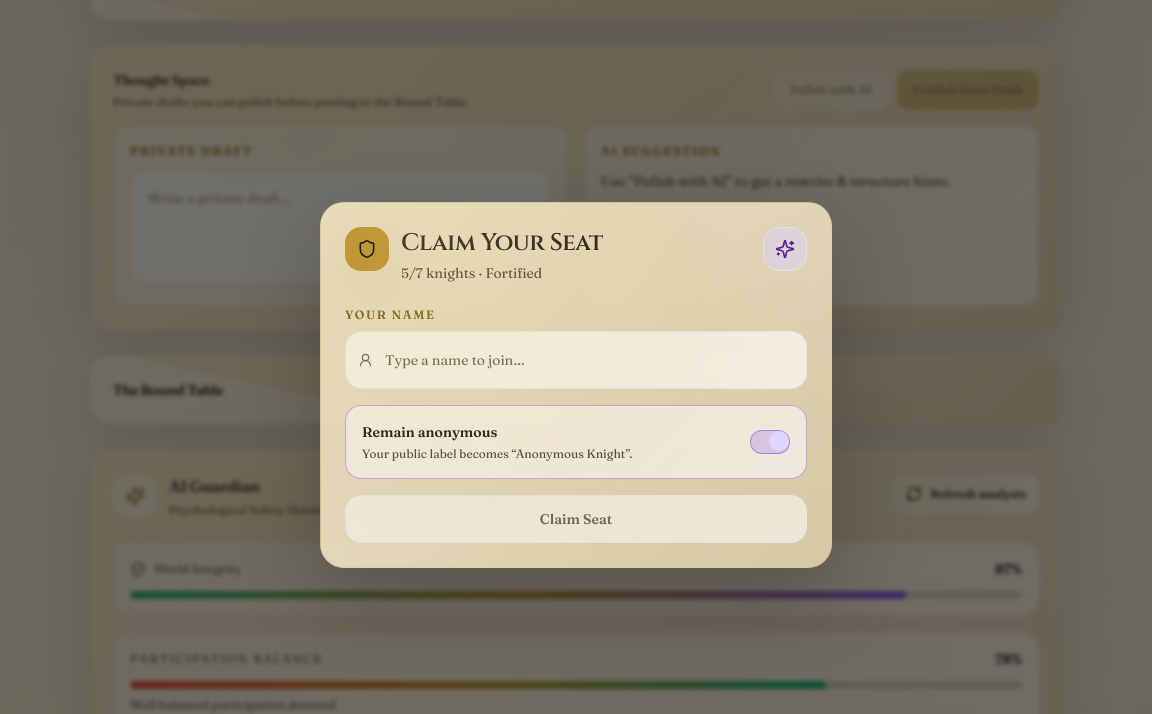
Test: room shows guidance when empty and confirms before publishing from draft
(page scrolled)
Expected: the heading "Claim Your Seat" is shown, x1=401 y1=227 x2=603 y2=259
Type "Alice" into the field labelled "YOUR NAME" at coordinates (590, 360), box x1=385 y1=340 x2=794 y2=380
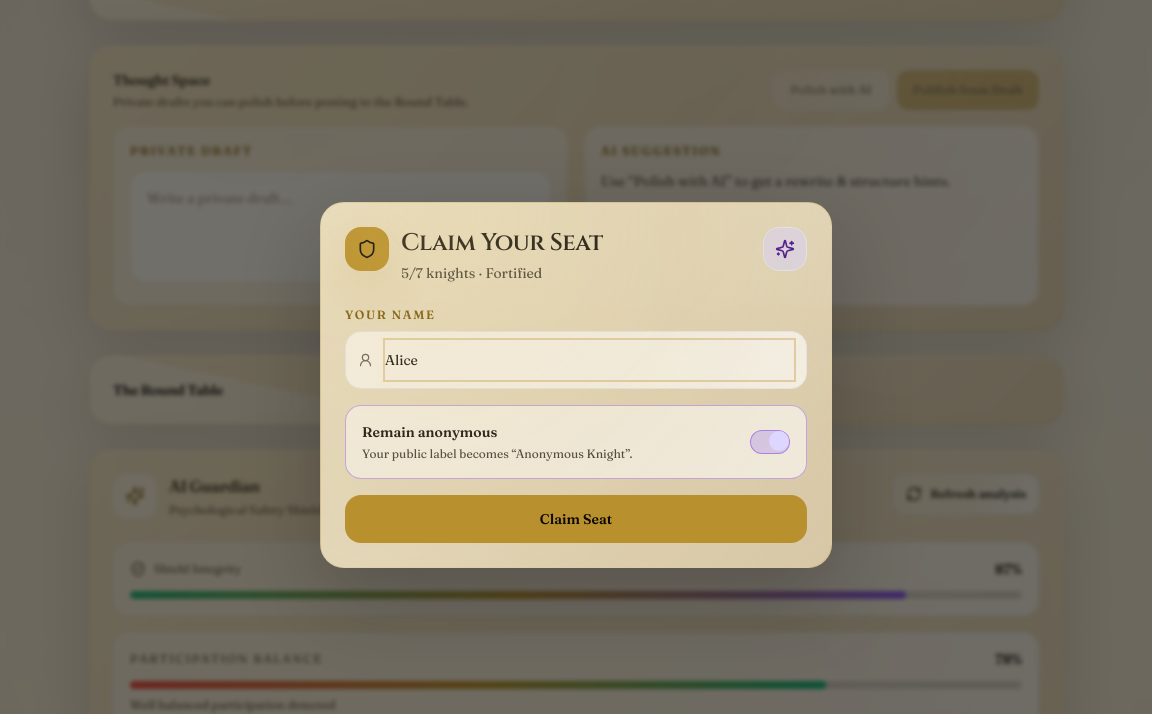
Click the button "Claim Seat" at coordinates (576, 519), box x1=345 y1=495 x2=807 y2=543
(page scrolled)
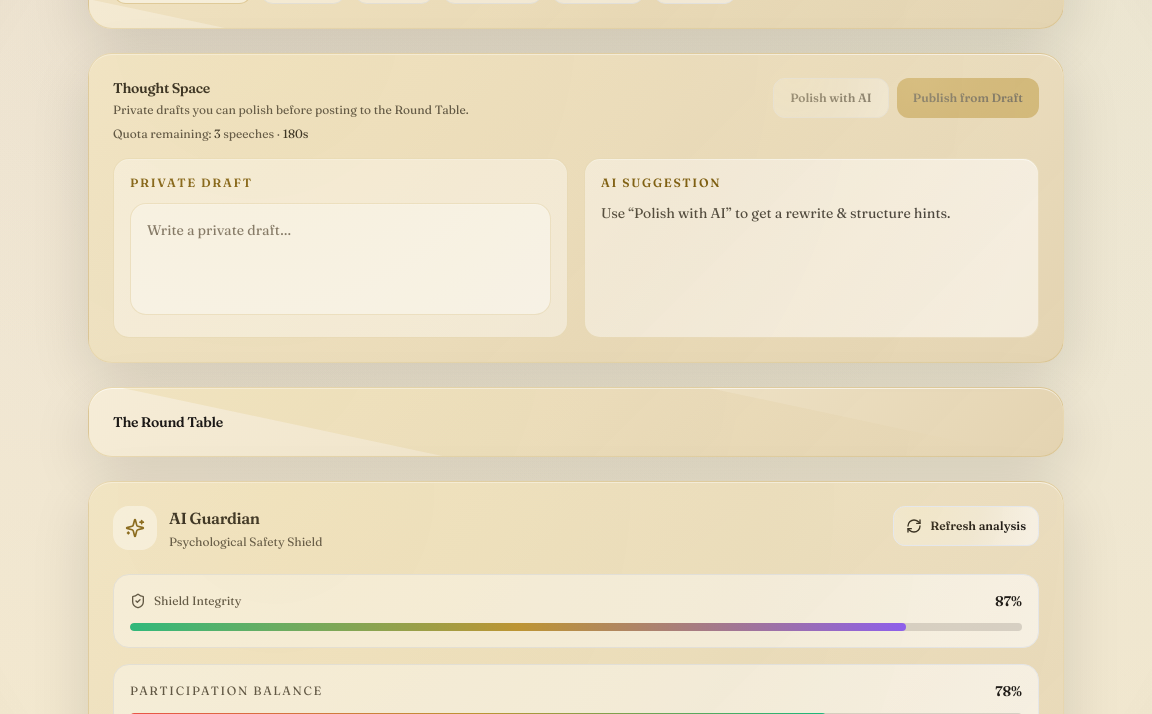
Type "Hello from draft" into the text box labelled "Write a private draft…" at coordinates (340, 259), box x1=130 y1=203 x2=551 y2=315
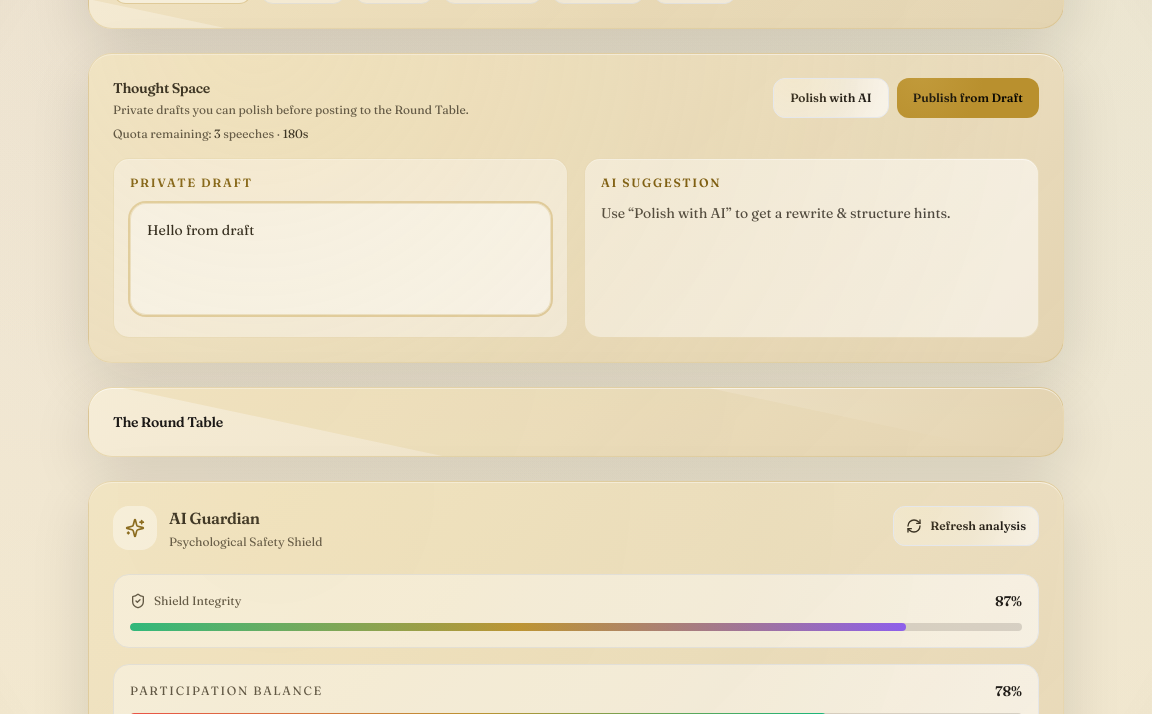
Click the button "Publish from Draft" at coordinates (968, 98), box x1=897 y1=78 x2=1039 y2=118
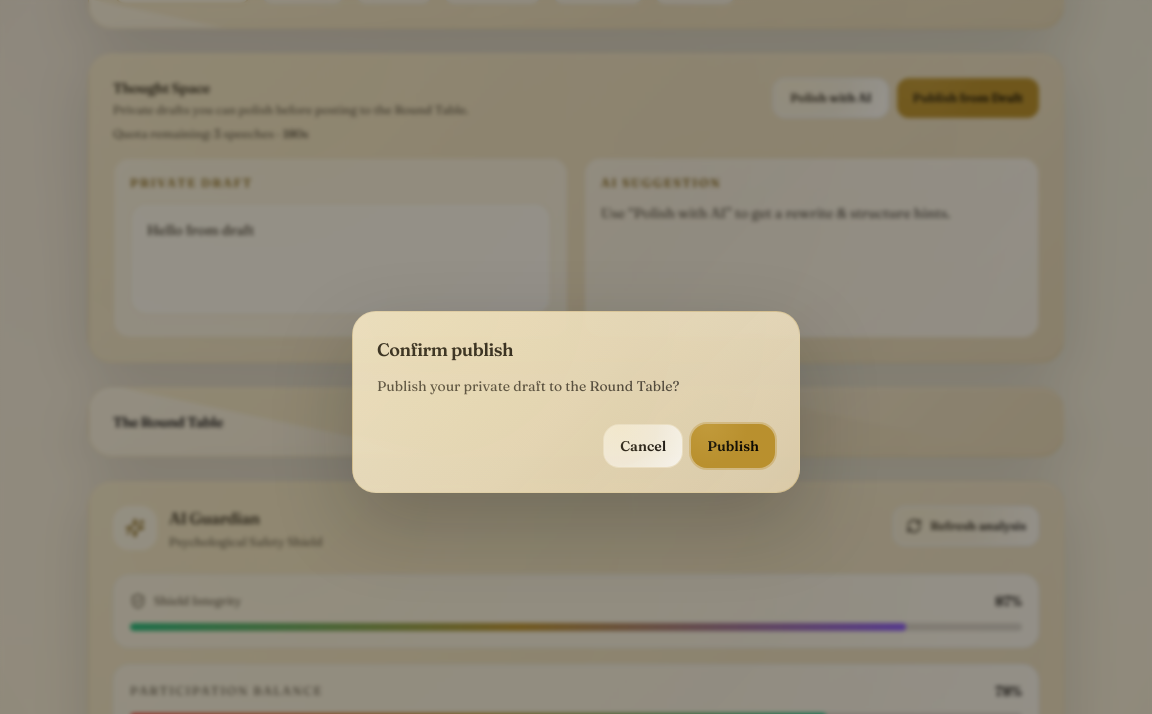
Click the button "Publish" at coordinates (733, 446), box x1=691 y1=424 x2=775 y2=468
(page scrolled)
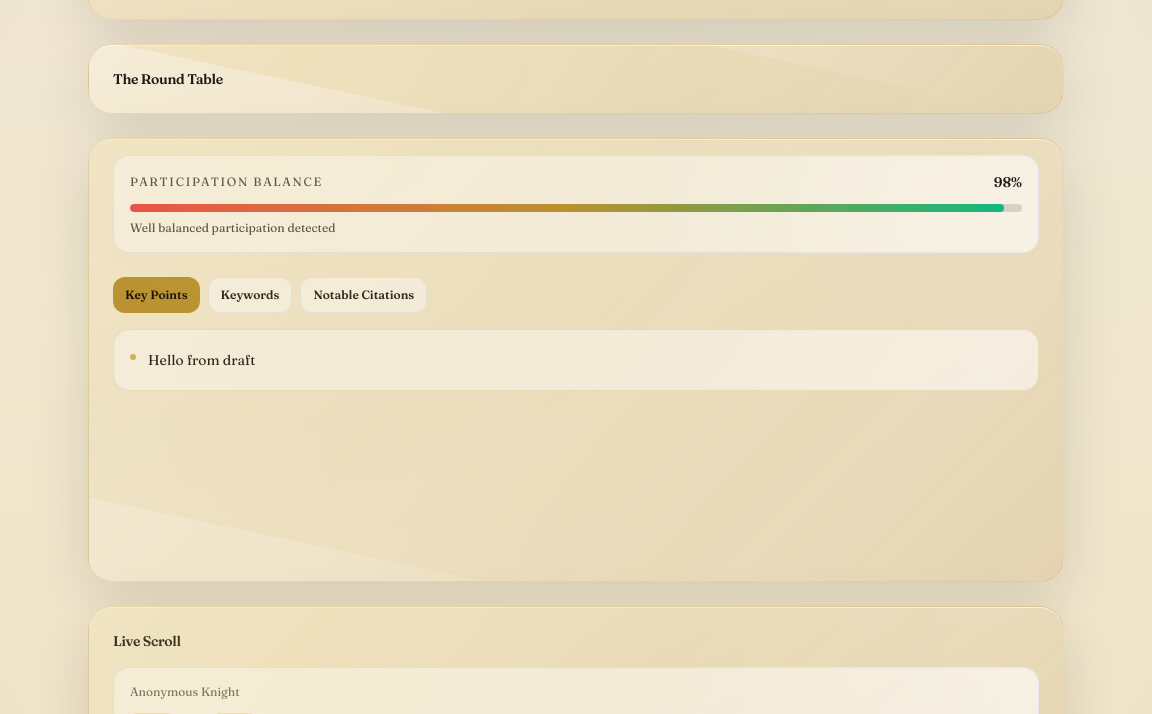
Result: the text "Hello from draft" is shown at x1=148 y1=346 x2=255 y2=374
